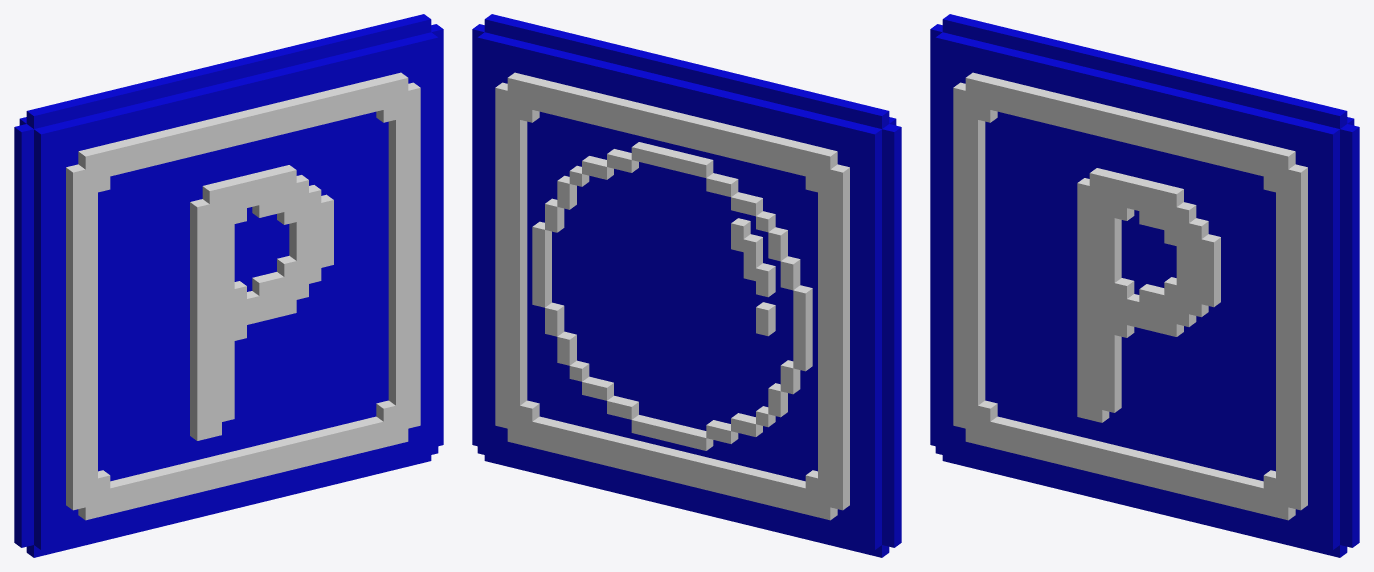
File: powerup_protection.fbx
The picture shows the model from 3 angles, left to right: view 1: azimuth 30°, elevation 25°; view 2: azimuth 150°, elevation 25°; view 3: azimuth 330°, elevation 25°; orthographic projection.
Visible parts, largest first — view 1: powerup_protection; view 2: powerup_protection; view 3: powerup_protection.
Part boxes in pixels (<box>): powerup_protection: <box>14,14,443,557</box>; powerup_protection: <box>472,14,901,557</box>; powerup_protection: <box>930,14,1359,557</box>.
Bounding box in the file's own units: 1.05 × 1.05 × 0.155.
